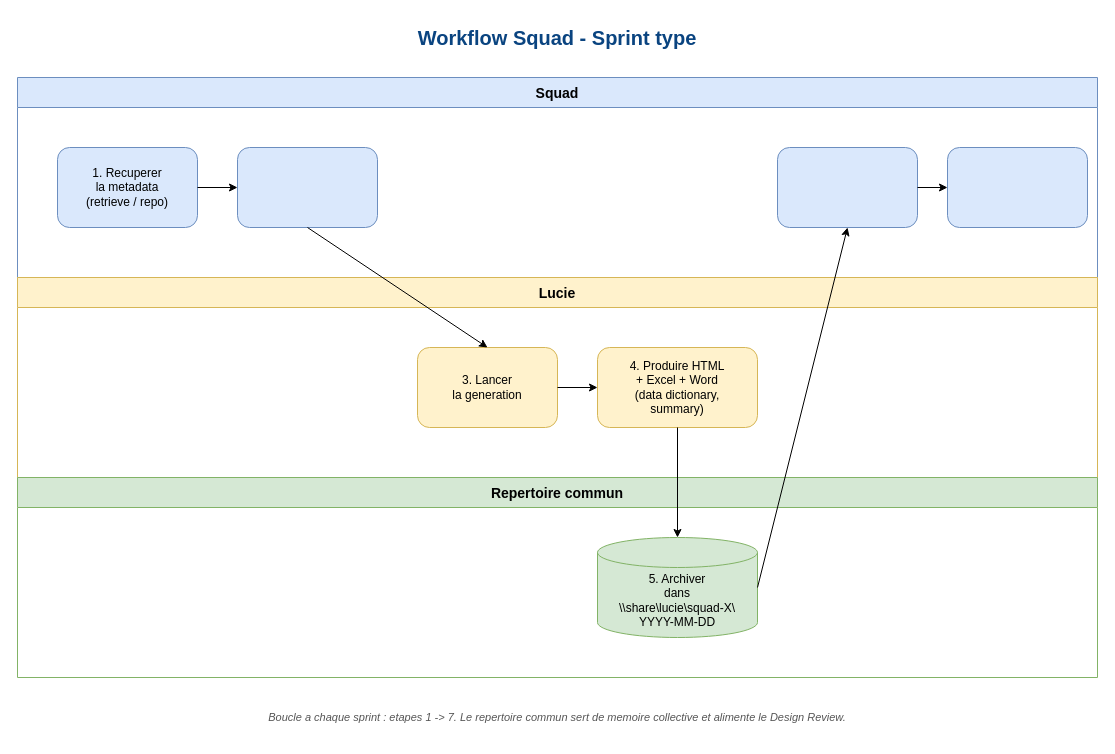
Some shapes in this 1115 by 754 pixel diagram are drawn without their labels. The centre of each missing label's shape, as x and y in pixels:
2. Configurer Lucie (dossiers, langue): the point at 307,187
6. Exploiter la doc (story, audit, IA): the point at 847,187
7. Reagir aux findings Critical / Major: the point at 1017,187
